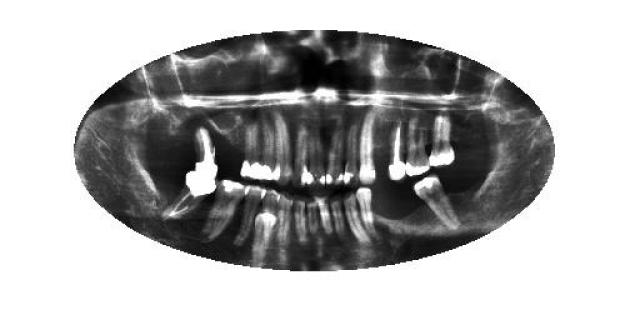Fillings: (196, 179, 248, 245), (410, 175, 462, 240), (405, 111, 430, 179), (240, 122, 264, 178), (324, 122, 344, 188), (340, 121, 360, 185), (260, 119, 278, 181)
Implant: (163, 171, 215, 219), (386, 116, 405, 182), (195, 128, 216, 172)
